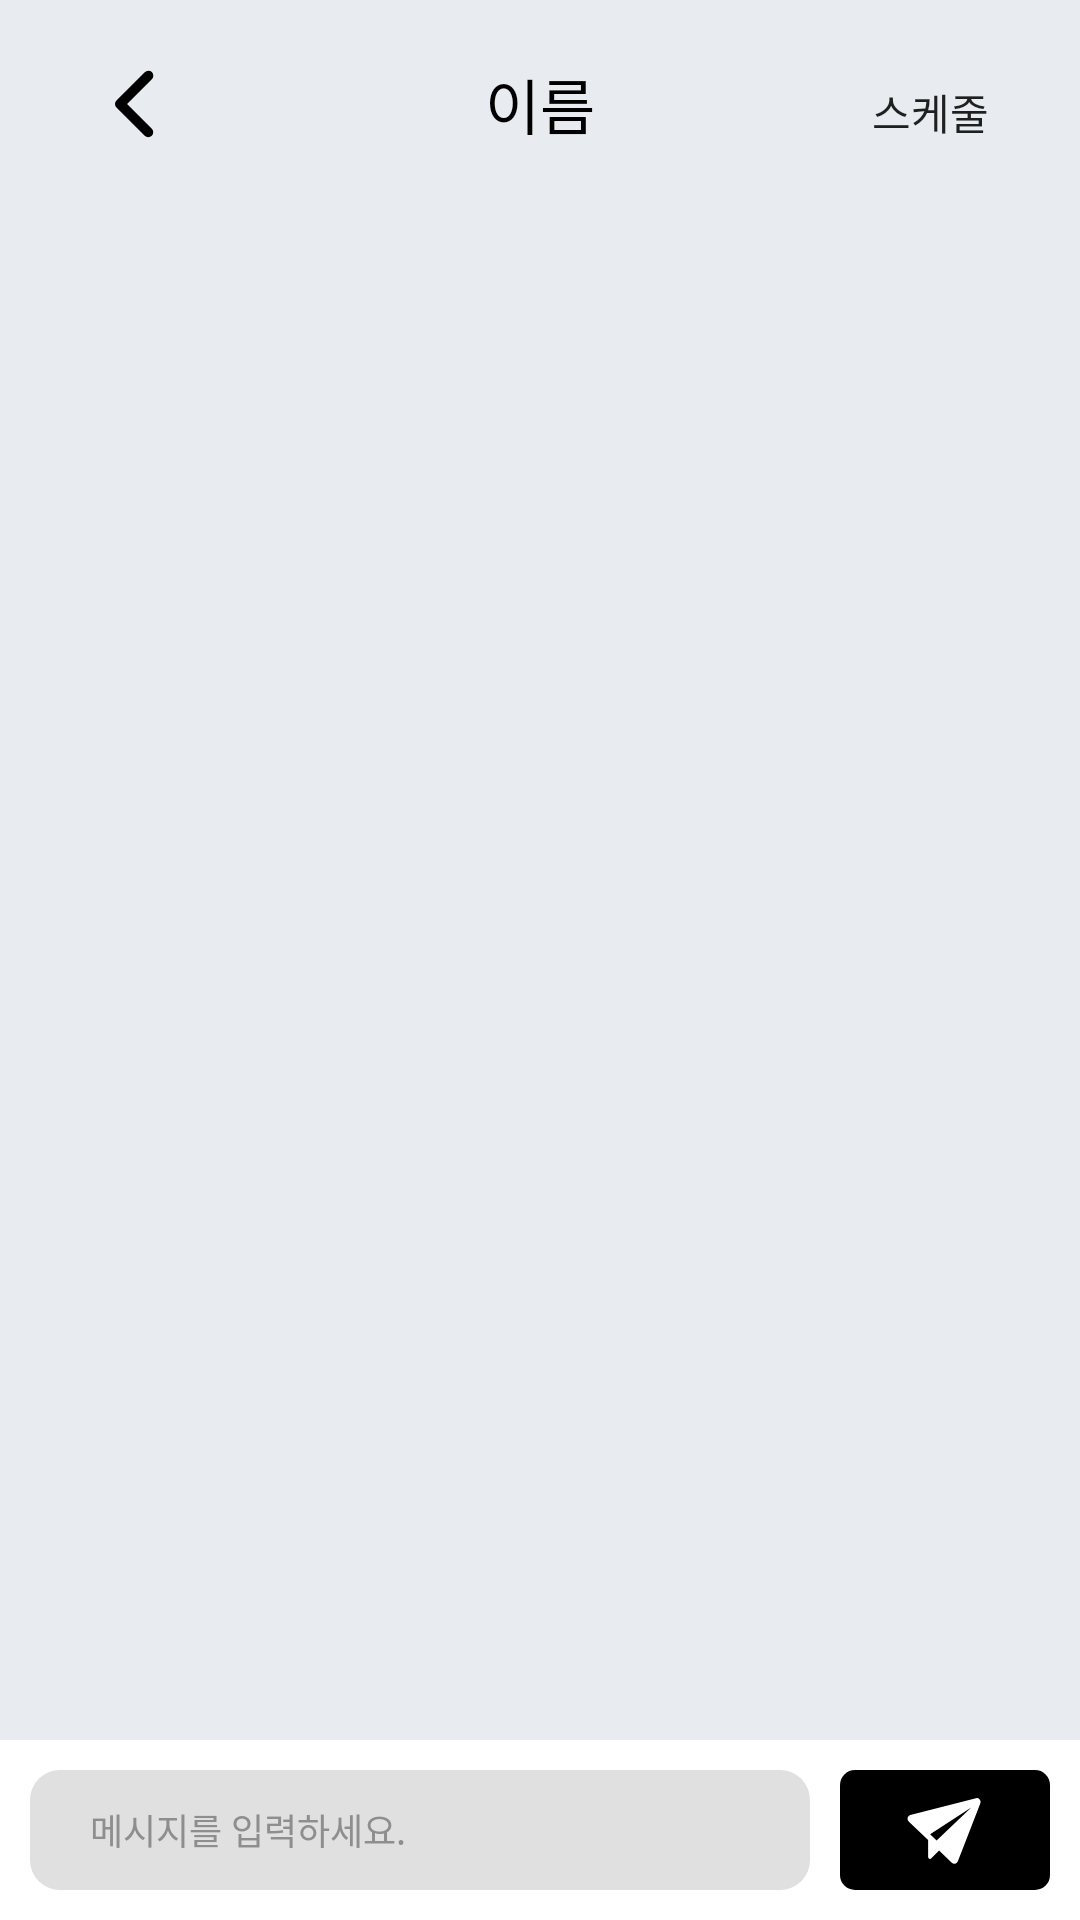

Where to tap for icons on this 1080×1920 app screen, as (x=x, y=y):
left arrow line: (x=134, y=104)
msg send: (x=945, y=1830)
